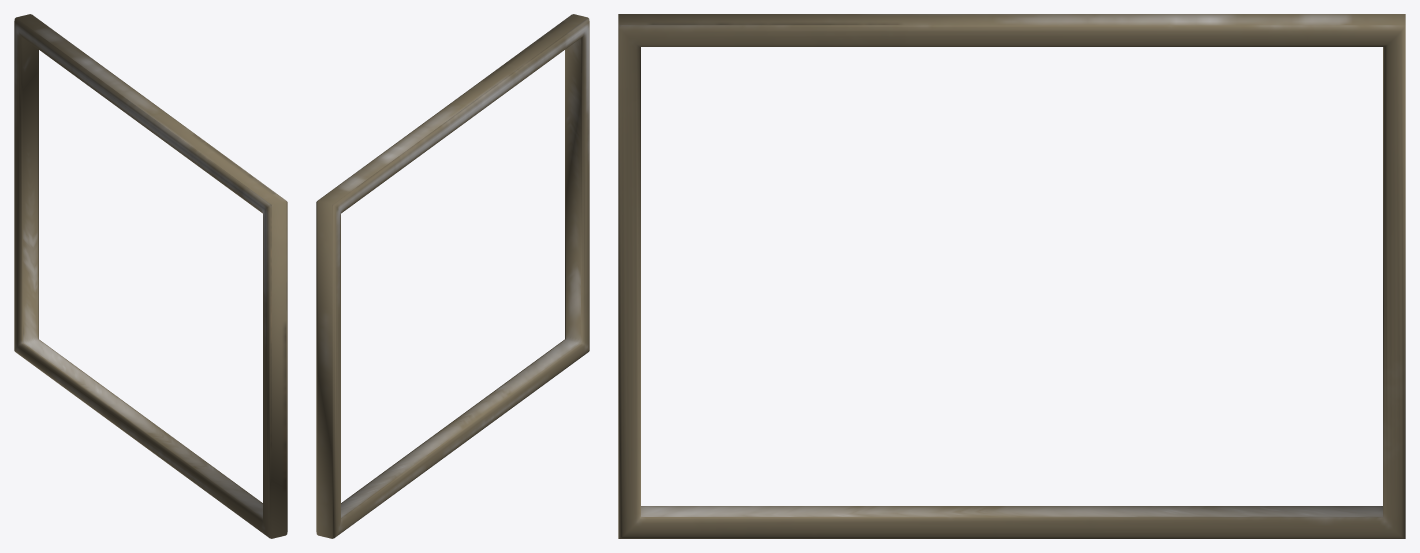
The model's file is Marco.fbx.
3 renders of one model, left to right at view 1: azimuth 30°, elevation 25°; view 2: azimuth 150°, elevation 25°; view 3: azimuth 270°, elevation 25°, orthographic. The views are drawn at different scales.
Parts seen in each view (by area): view 1: marco_low; view 2: marco_low; view 3: marco_low.
Boxes of the visible parts, left/top/right/bottom form: marco_low: left=14, top=14, right=287, bottom=538; marco_low: left=316, top=14, right=589, bottom=538; marco_low: left=618, top=14, right=1405, bottom=538.
Size of the model in its own units: 60.95 by 923 by 1282.
